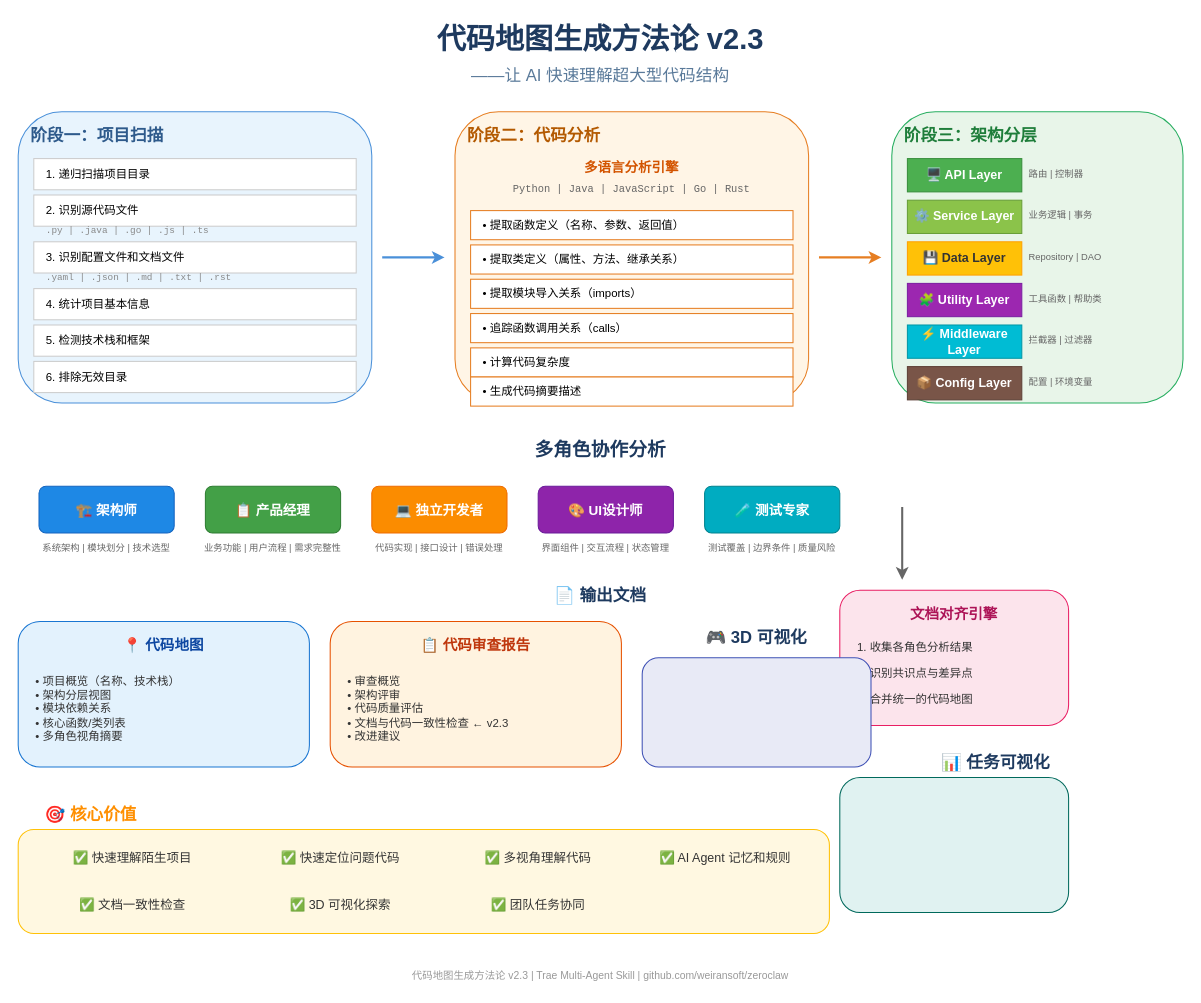
The diagram is 1201 pixels wide and 1003 high, and some of its shapes have lost their labels. The shapes that lost their labels are listed below. From the top down, each one's box as (x1, y1, x2, y2) in pixels, then its label:
(641, 657, 871, 767): • Three.js 3D 引擎 • 节点：模块 | 类 | 函数 • 连线：调用关系 • 流动动画效果 • 深色/浅色主题
(839, 776, 1069, 913): • 概览统计面板 • 角色任务卡片 • 任务依赖关系 • 任务交接时间线 • 协同关系图 • 定时刷新机制
